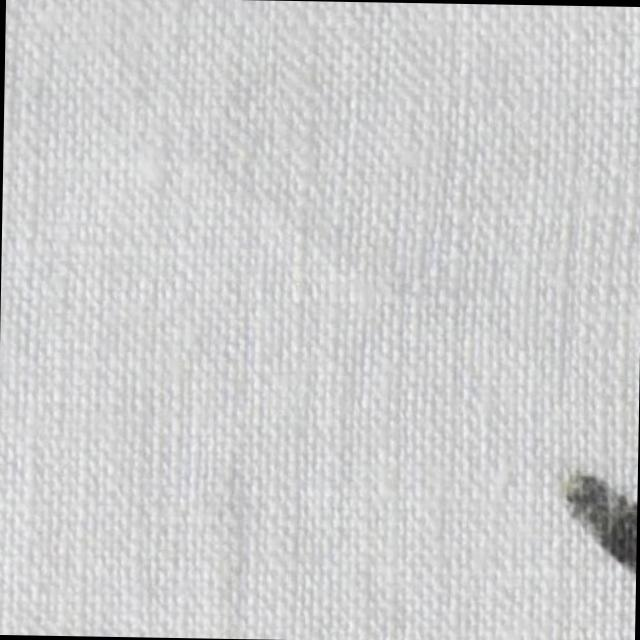Stain: (550, 464, 638, 580)
